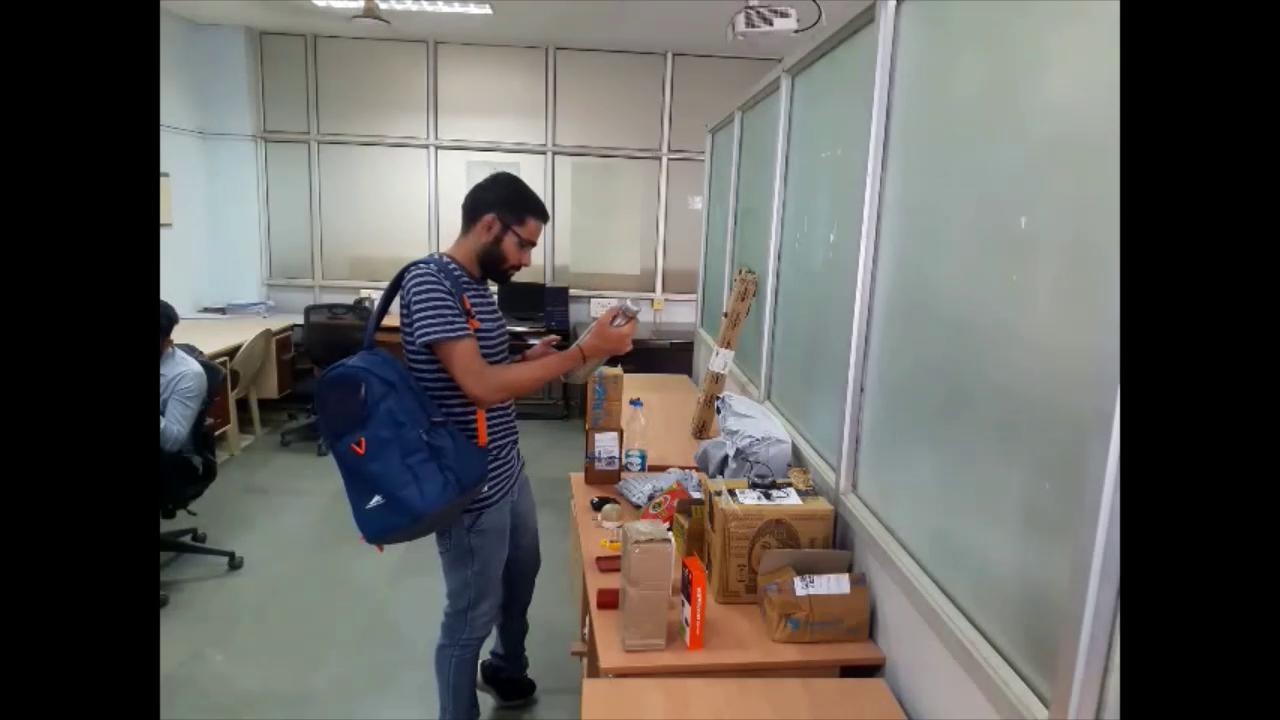Normal: (309, 154, 632, 720)
